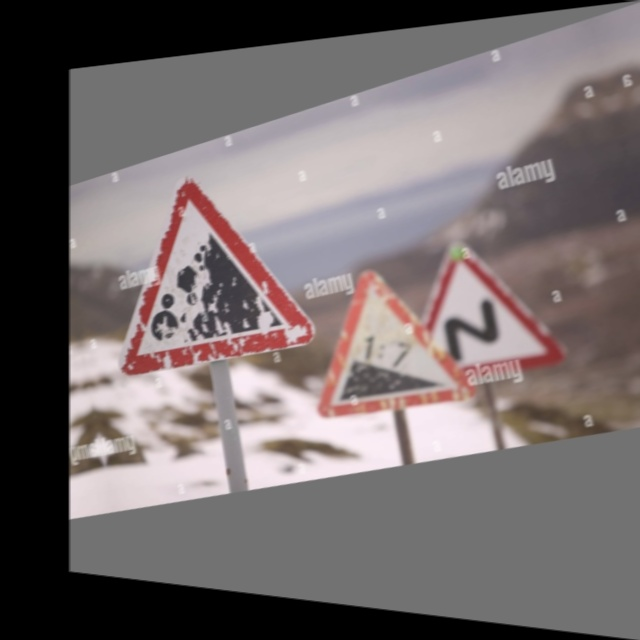Falling_Rocks: (97, 152, 305, 383)
